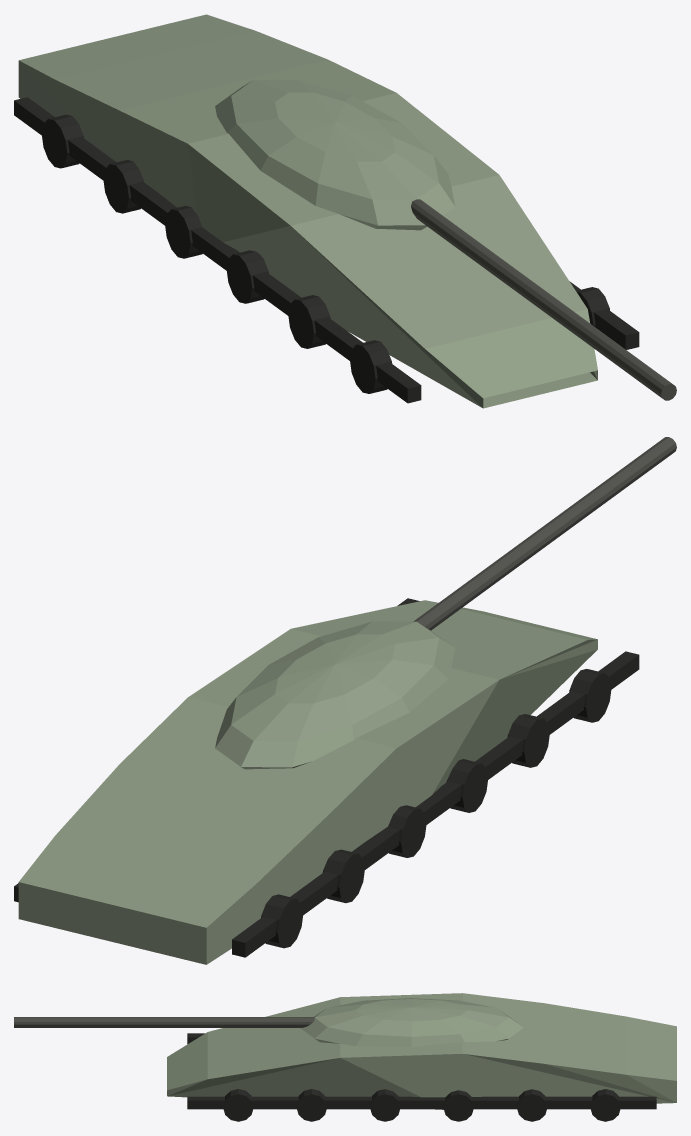
File: challenger.glb
3 renders of one model, top to bottom at view 1: azimuth 30°, elevation 25°; view 2: azimuth 150°, elevation 25°; view 3: azimuth 270°, elevation 25°, orthographic. The views are drawn at different scales.
Parts seen in each view (by area): view 1: Hull, Turret, Track_L, Gun, Wheel_L_01, Wheel_L_06, Wheel_L_02, Wheel_L_03, Wheel_L_05, Wheel_L_04, Track_R, Wheel_R_01; view 2: Hull, Turret, Track_L, Gun, Wheel_L_02, Wheel_L_01, Wheel_L_06, Wheel_L_05, Wheel_L_03, Wheel_L_04; view 3: Hull, Turret, Track_R, Gun, Wheel_R_02, Wheel_R_01, Wheel_R_03, Wheel_R_06, Wheel_R_05, Wheel_R_04.
Part boxes in pixels (x1,y1,x2,y2): Hull: (18, 14, 597, 408); Turret: (215, 79, 455, 230); Track_L: (14, 97, 421, 403); Gun: (411, 199, 676, 400); Wheel_L_01: (350, 340, 392, 393); Wheel_L_06: (41, 114, 83, 168); Wheel_L_02: (288, 295, 330, 348); Wheel_L_03: (226, 250, 268, 303); Wheel_L_05: (103, 160, 143, 213); Wheel_L_04: (165, 205, 202, 258); Track_R: (569, 281, 639, 349); Wheel_R_01: (576, 287, 609, 326); Hull: (18, 600, 597, 964); Turret: (215, 621, 455, 769); Track_L: (232, 651, 639, 957); Gun: (413, 437, 676, 630); Wheel_L_02: (507, 714, 549, 767); Wheel_L_01: (569, 669, 611, 722); Wheel_L_06: (261, 894, 303, 948); Wheel_L_05: (322, 849, 364, 903); Wheel_L_03: (446, 759, 488, 812); Wheel_L_04: (388, 805, 426, 857); Hull: (167, 993, 676, 1109); Turret: (300, 998, 523, 1046); Track_R: (187, 1096, 656, 1109); Gun: (14, 1017, 314, 1027); Wheel_R_02: (296, 1089, 326, 1121); Wheel_R_01: (223, 1089, 253, 1121); Wheel_R_03: (370, 1089, 400, 1121); Wheel_R_06: (590, 1089, 620, 1121); Wheel_R_05: (517, 1089, 547, 1121); Wheel_R_04: (443, 1090, 473, 1121).
Bounding box in the file's own units: 3.66 × 1.99 × 14.95.
